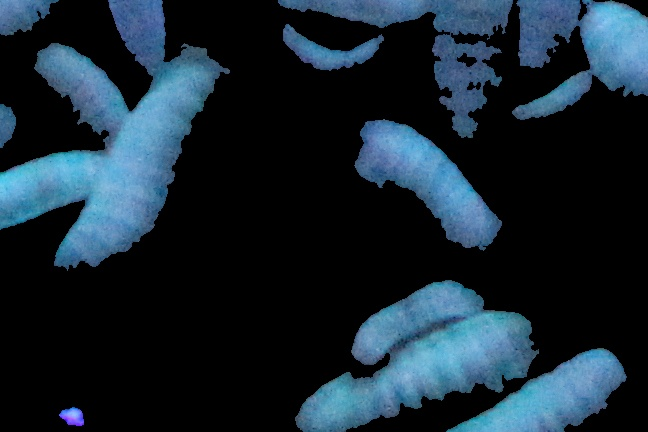larvae: (55, 45, 226, 271), (293, 311, 536, 432), (356, 119, 502, 250), (449, 346, 624, 432), (351, 281, 485, 366), (35, 41, 131, 147), (430, 1, 504, 138), (1, 150, 100, 226), (577, 3, 648, 104), (516, 1, 590, 77), (280, 24, 383, 73), (106, 1, 166, 74), (513, 72, 592, 124)
